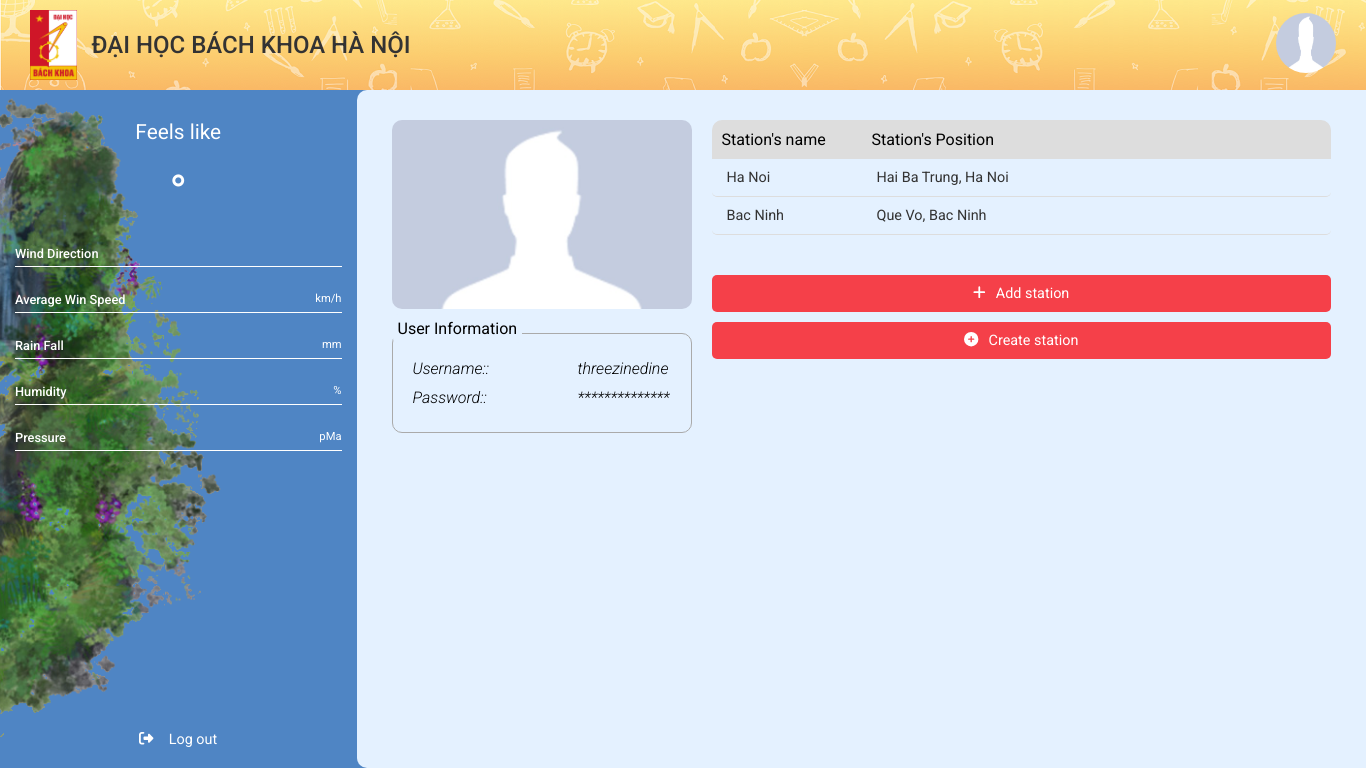
Test case: Admin page testing › should contain the create new staiton Button
Click the button with test id "createStation": (1022, 341) [712,322,1332,359]
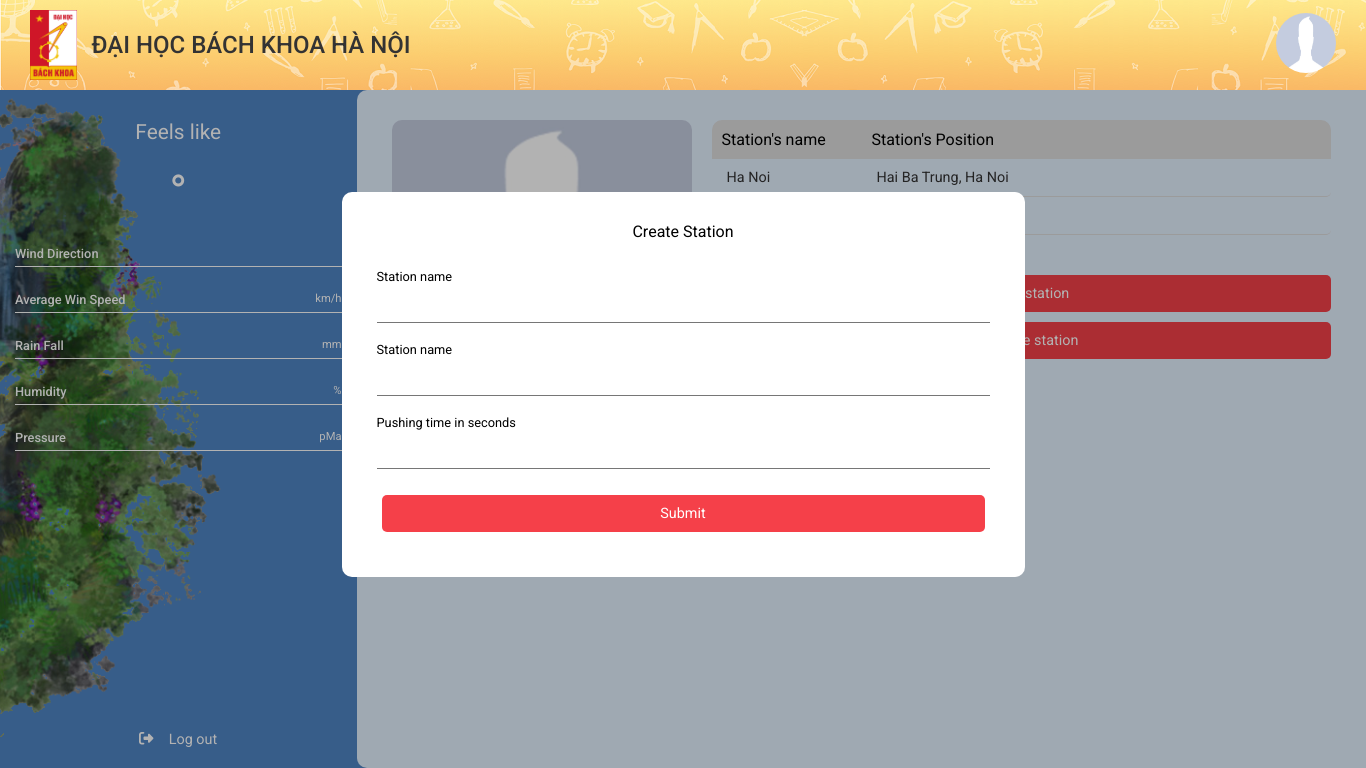
In the field with test id "stationStationName": (684, 304) [377,285,990,323], type "Ha Nam"
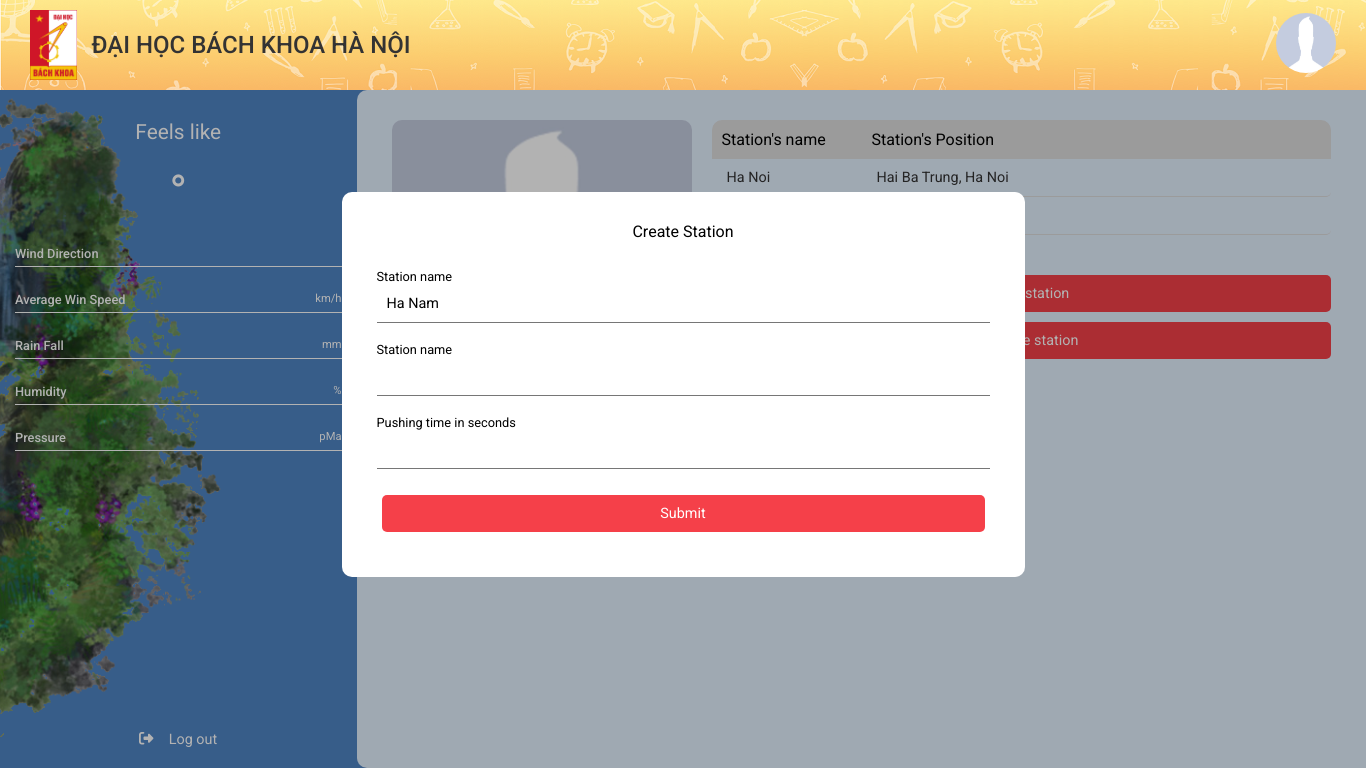
In the field with test id "stationStationPosition": (684, 377) [377,358,990,396], type "Ha Nam"
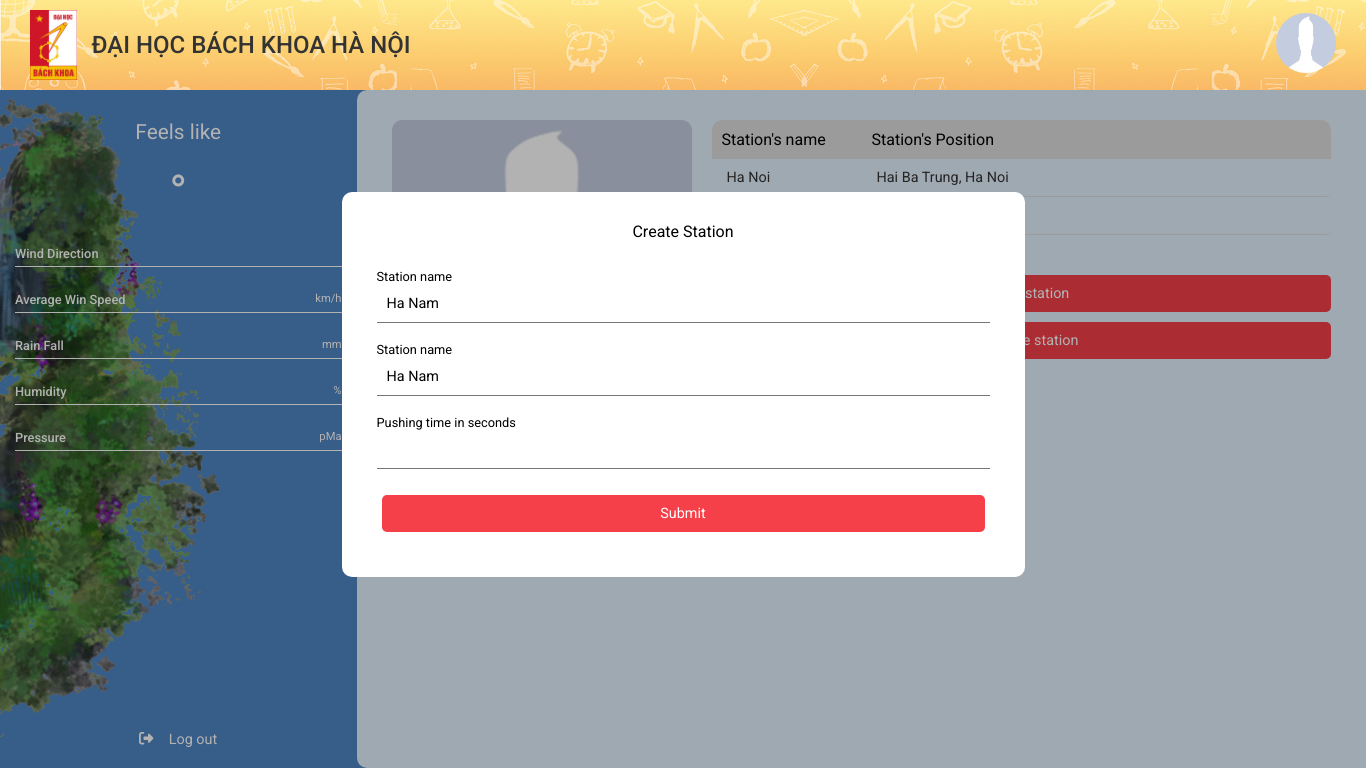
In the field with test id "stationPublishingTime": (684, 450) [377,431,990,469], type "5"
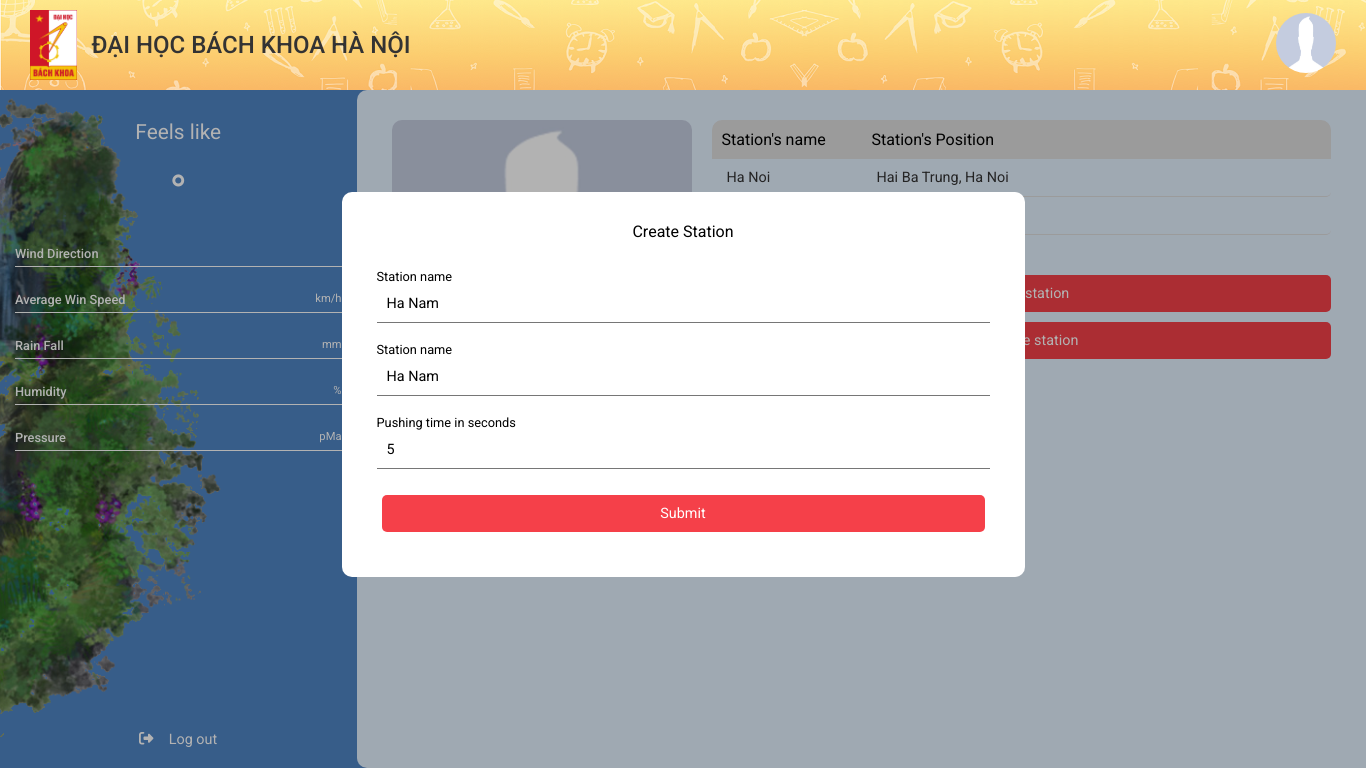
Click the button "Submit": (684, 514) [382,495,985,532]
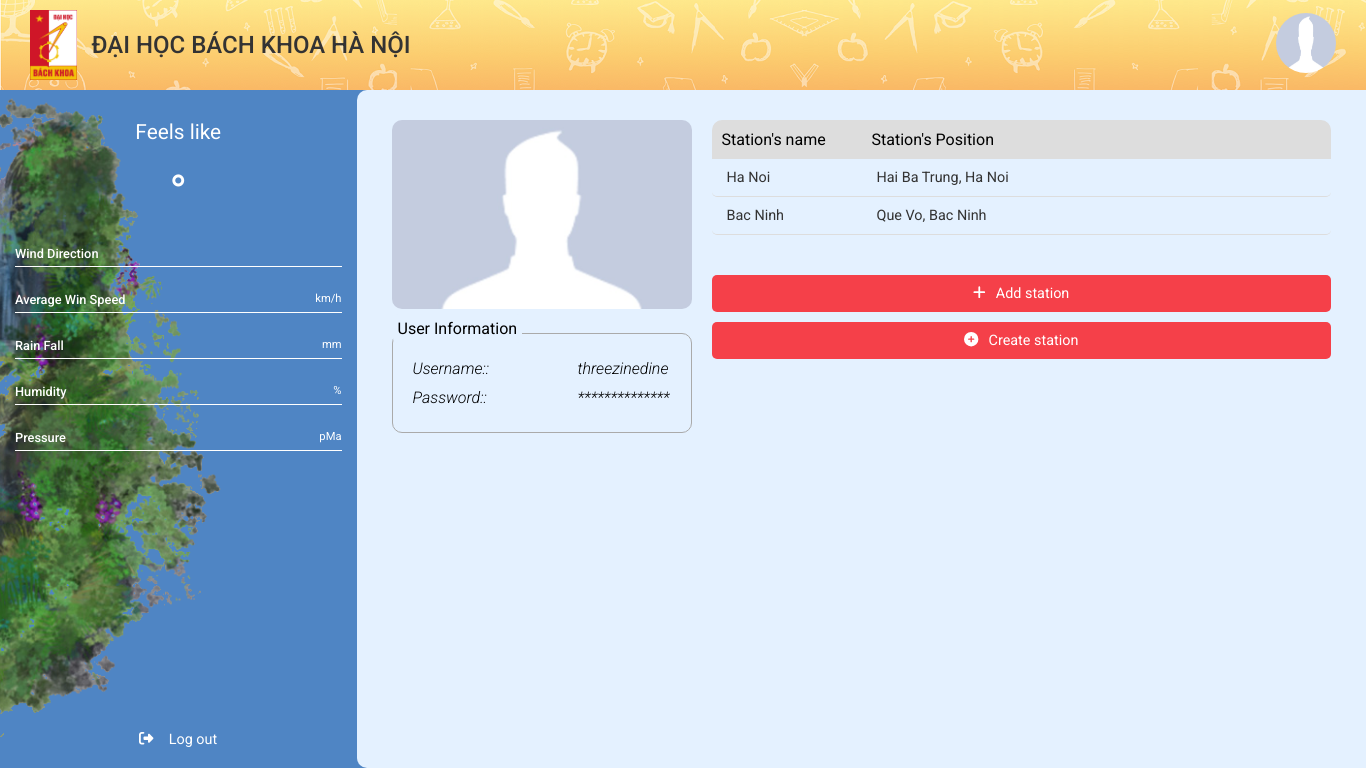
Expected: the label with test id "stationStationName" is gone
Expected: the label with test id "stationStationPosition" is gone
Expected: the label with test id "stationPublishingTime" is gone
